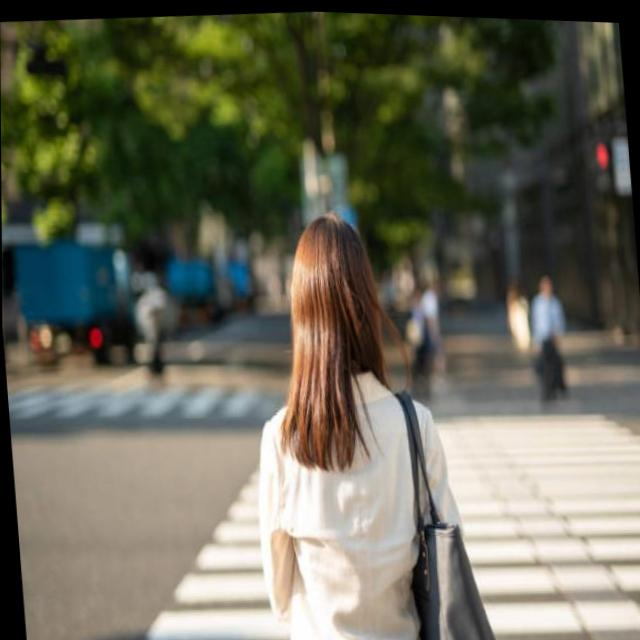no helmet: (257, 184, 393, 392)
